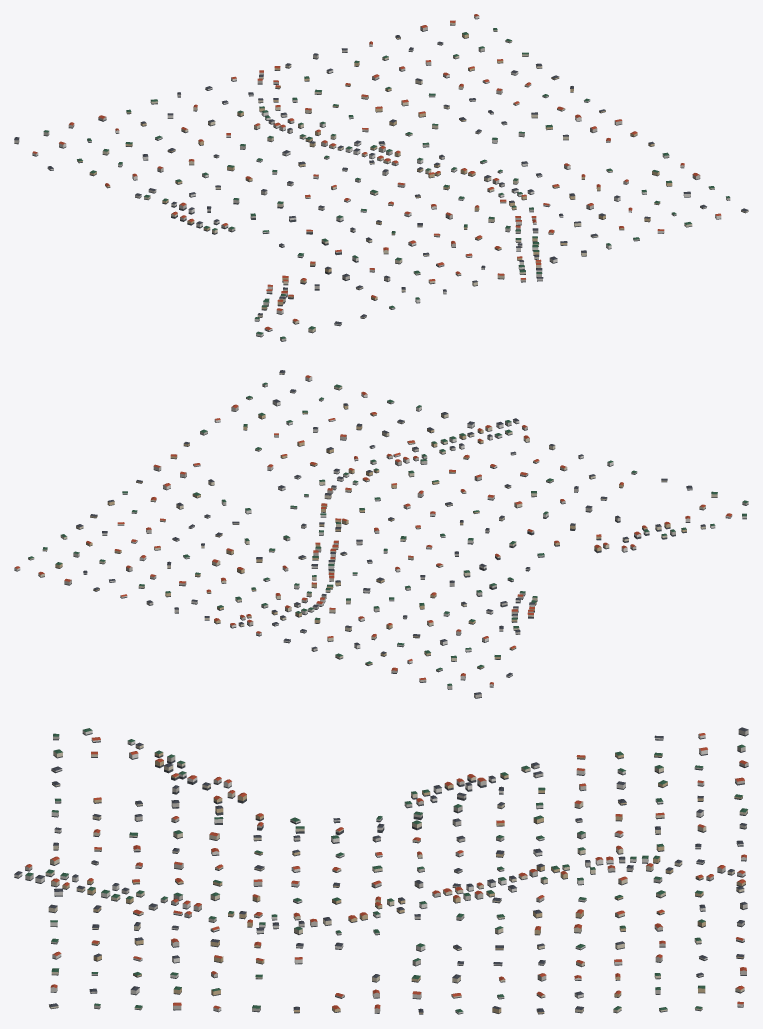
Rendered from buildings_T_E00_S02.glb.
The picture shows the model from 3 angles, top to bottom: view 1: azimuth 30°, elevation 25°; view 2: azimuth 150°, elevation 25°; view 3: azimuth 270°, elevation 25°; orthographic projection. The views are drawn at different scales.
Visible parts, largest first — view 1: T_E00_S02_slope_seating_foundations, T_E00_S02_roofs_roof_terracotta_gable, T_E00_S02_roofs_roof_slate_French_villa_hip, T_E00_S02_roofs_roof_pine_green_hip, T_E00_S02_walls_wall_pastel_sand_gray, T_E00_S02_walls_wall_dalat_cream_stucco, T_E00_S02_walls_wall_modern_warm_white, T_E00_S02_walls_wall_french_ochre_villa; view 2: T_E00_S02_slope_seating_foundations, T_E00_S02_roofs_roof_terracotta_gable, T_E00_S02_roofs_roof_slate_French_villa_hip, T_E00_S02_roofs_roof_pine_green_hip, T_E00_S02_walls_wall_modern_warm_white, T_E00_S02_walls_wall_pastel_sand_gray, T_E00_S02_walls_wall_dalat_cream_stucco, T_E00_S02_walls_wall_french_ochre_villa; view 3: T_E00_S02_slope_seating_foundations, T_E00_S02_roofs_roof_terracotta_gable, T_E00_S02_roofs_roof_slate_French_villa_hip, T_E00_S02_roofs_roof_pine_green_hip, T_E00_S02_walls_wall_pastel_sand_gray, T_E00_S02_walls_wall_dalat_cream_stucco, T_E00_S02_walls_wall_modern_warm_white, T_E00_S02_walls_wall_french_ochre_villa.
Part boxes in pixels (x1,y1,x2,y2): T_E00_S02_slope_seating_foundations: [14, 17, 748, 341]; T_E00_S02_roofs_roof_terracotta_gable: [32, 14, 721, 329]; T_E00_S02_roofs_roof_slate_French_villa_hip: [14, 35, 748, 324]; T_E00_S02_roofs_roof_pine_green_hip: [43, 28, 730, 338]; T_E00_S02_walls_wall_pastel_sand_gray: [14, 26, 730, 340]; T_E00_S02_walls_wall_dalat_cream_stucco: [102, 22, 748, 332]; T_E00_S02_walls_wall_modern_warm_white: [32, 15, 721, 336]; T_E00_S02_walls_wall_french_ochre_villa: [77, 33, 672, 309]; T_E00_S02_slope_seating_foundations: [14, 372, 748, 698]; T_E00_S02_roofs_roof_terracotta_gable: [14, 375, 731, 684]; T_E00_S02_roofs_roof_slate_French_villa_hip: [76, 370, 705, 694]; T_E00_S02_roofs_roof_pine_green_hip: [28, 382, 748, 685]; T_E00_S02_walls_wall_modern_warm_white: [14, 376, 746, 686]; T_E00_S02_walls_wall_pastel_sand_gray: [64, 384, 748, 697]; T_E00_S02_walls_wall_dalat_cream_stucco: [28, 372, 717, 661]; T_E00_S02_walls_wall_french_ochre_villa: [55, 404, 686, 668]; T_E00_S02_slope_seating_foundations: [14, 733, 748, 1014]; T_E00_S02_roofs_roof_terracotta_gable: [25, 733, 747, 1009]; T_E00_S02_roofs_roof_slate_French_villa_hip: [14, 727, 748, 1012]; T_E00_S02_roofs_roof_pine_green_hip: [25, 728, 747, 1012]; T_E00_S02_walls_wall_pastel_sand_gray: [25, 729, 748, 1012]; T_E00_S02_walls_wall_dalat_cream_stucco: [45, 744, 747, 1012]; T_E00_S02_walls_wall_modern_warm_white: [14, 730, 746, 1013]; T_E00_S02_walls_wall_french_ochre_villa: [62, 752, 745, 1013].
Size of the model in its own units: 1632 by 108 by 1677.
